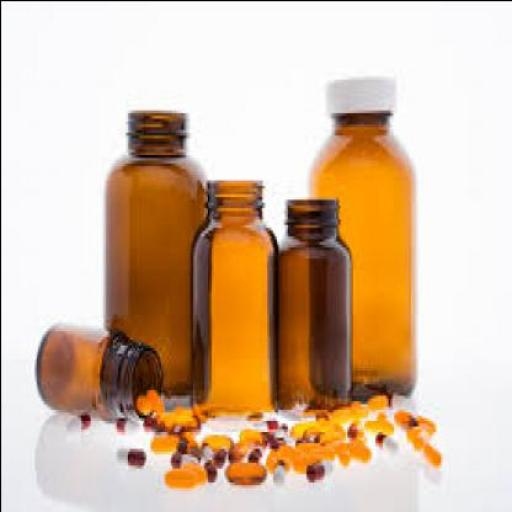glass: (309, 109, 415, 392), (106, 109, 208, 394), (194, 177, 277, 414), (275, 196, 354, 402), (35, 321, 164, 420)
plastic: (327, 70, 399, 112)
